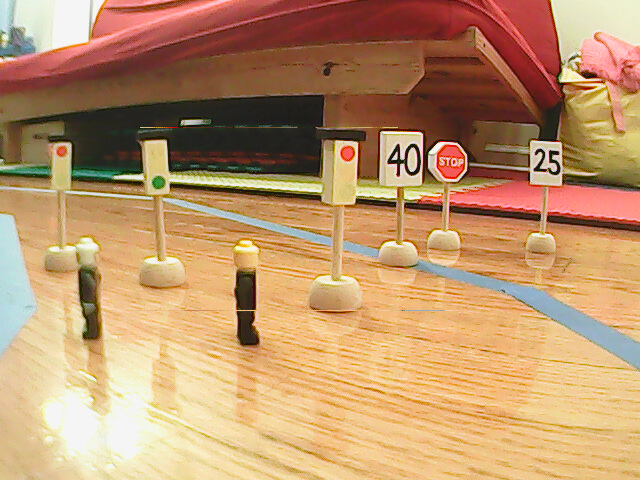Green Traffic Light: (134, 128, 174, 196)
Person: (229, 238, 268, 347), (75, 237, 108, 340)
Red Traffic Light: (315, 127, 363, 206), (45, 135, 78, 194)
Speed Limit 25: (528, 140, 566, 186)
Speed Limit 40: (378, 130, 423, 192)
Stop Sign: (426, 138, 469, 184)
